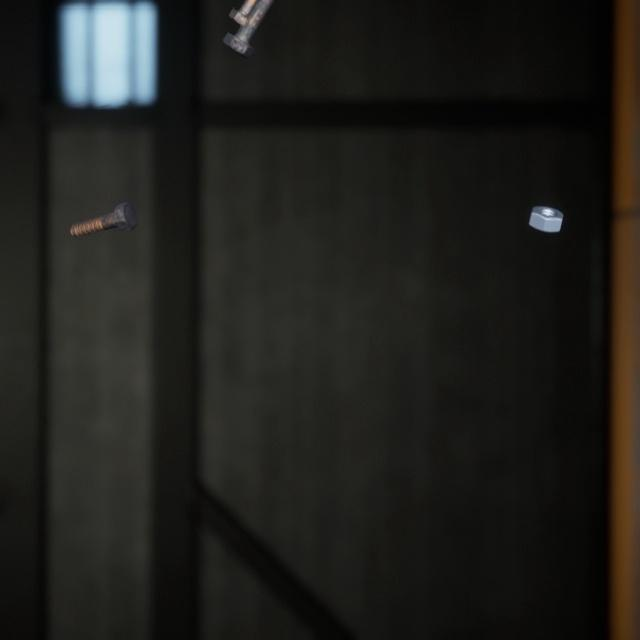bolt: (65, 182, 141, 226), (218, 0, 275, 54), (224, 0, 256, 24)
nut: (524, 186, 568, 221)
